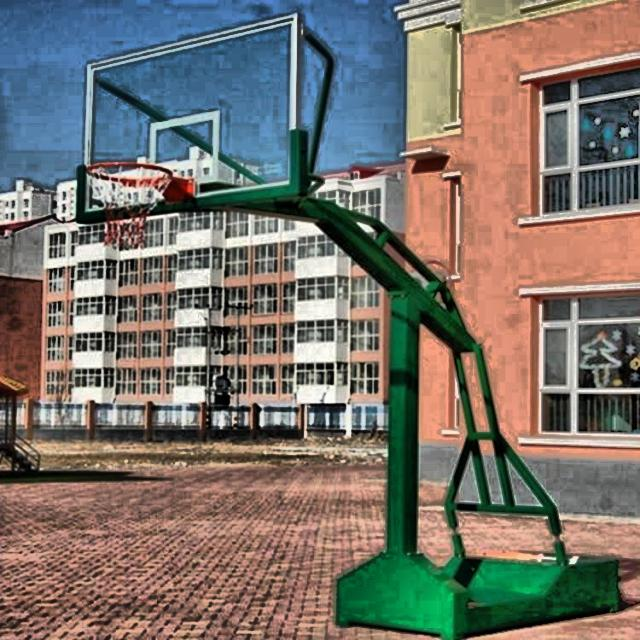rim: (80, 162, 171, 248)
